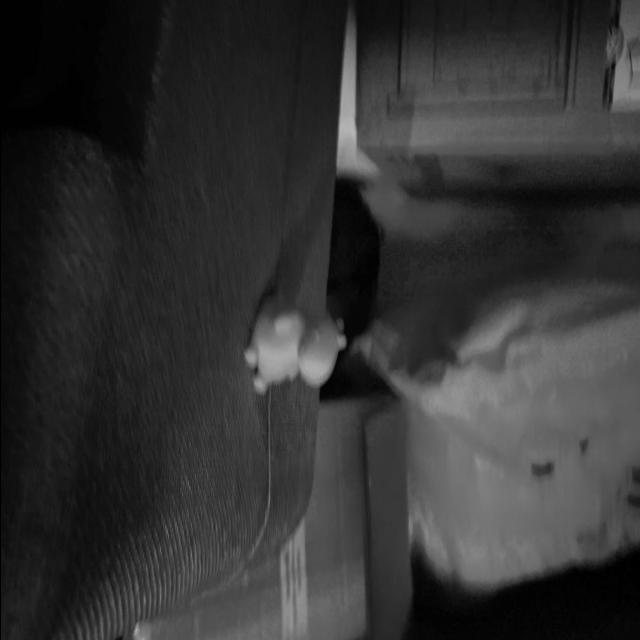DINO: (245, 263, 356, 406)
